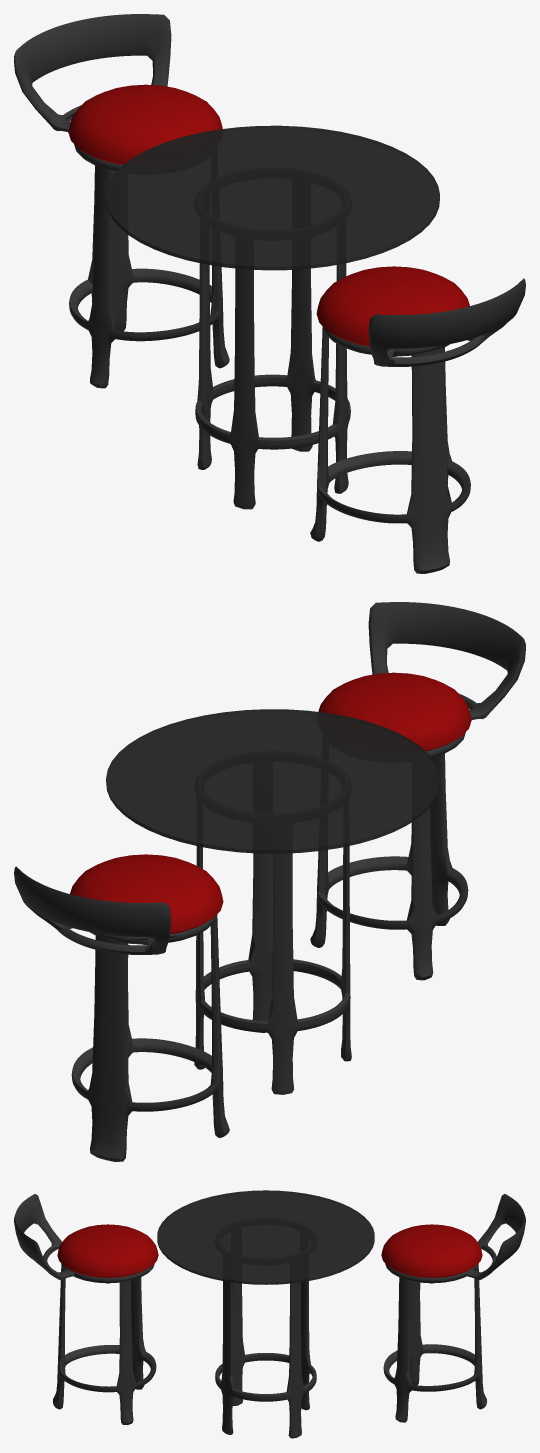
File: UDTarget11.fbx
3 views of the same model, one above another, from view 1: azimuth 30°, elevation 25°; view 2: azimuth 150°, elevation 25°; view 3: azimuth 270°, elevation 25° (orthographic). The views are drawn at different scales.
Parts seen in each view (by area): view 1: Default; view 2: Default; view 3: Default.
Part boxes in pixels (box(x1,y1,x2,y2)): Default: box(14, 14, 525, 573); Default: box(14, 602, 525, 1161); Default: box(14, 1190, 525, 1438).
Size of the model in its own units: 2.39 by 2.47 by 5.61.
